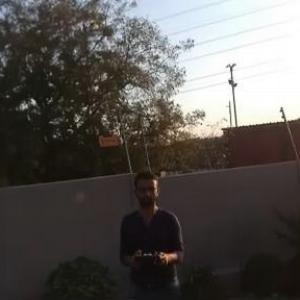follow: (115, 166, 190, 299)
